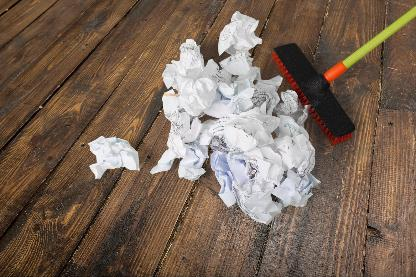Others: (154, 12, 320, 225), (153, 134, 209, 184), (162, 40, 209, 90), (86, 137, 140, 180), (216, 11, 265, 55), (268, 163, 321, 198)
